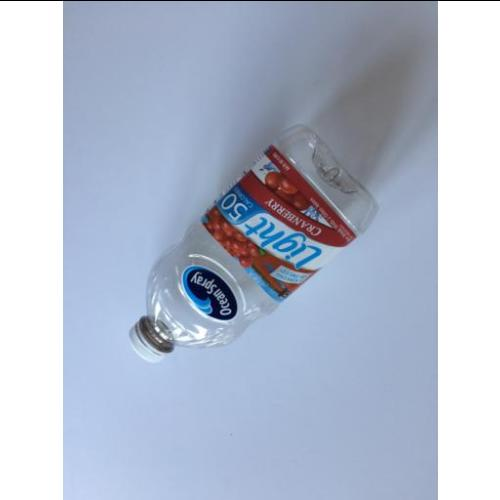plastic: (130, 126, 377, 364)
